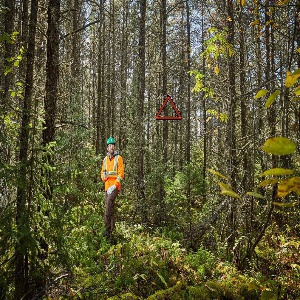triangle: (153, 94, 184, 122)
